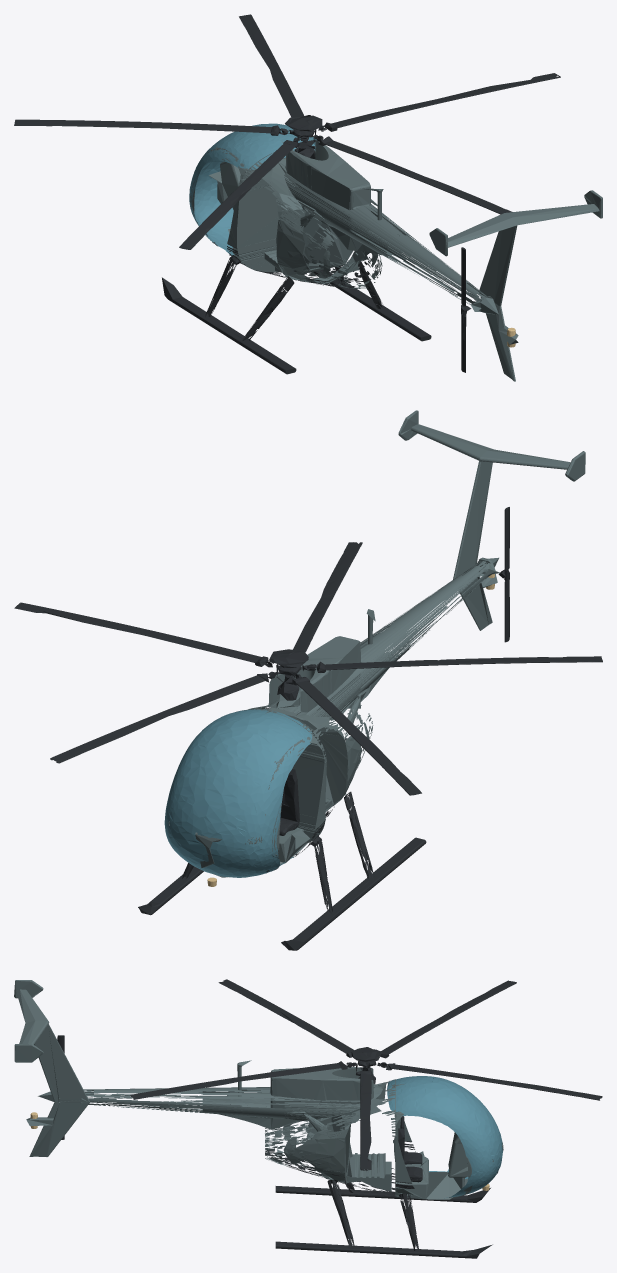
The picture shows the model from 3 angles, top to bottom: view 1: azimuth 30°, elevation 25°; view 2: azimuth 150°, elevation 25°; view 3: azimuth 270°, elevation 25°; orthographic projection. The views are drawn at different scales.
Parts seen in each view (by area): view 1: body body, rotor ink, body ink, body glass, tail ink; view 2: body body, body glass, rotor ink, body ink, tail ink; view 3: body body, rotor ink, body glass, body ink.
Boxes of the visible parts, bbox=[...] form: body body: bbox=[189, 140, 602, 381]; rotor ink: bbox=[14, 14, 560, 249]; body ink: bbox=[162, 219, 431, 374]; body glass: bbox=[189, 123, 316, 255]; tail ink: bbox=[461, 247, 471, 372]; body body: bbox=[166, 410, 585, 877]; body glass: bbox=[164, 709, 312, 877]; rotor ink: bbox=[14, 542, 602, 795]; body ink: bbox=[138, 738, 426, 950]; tail ink: bbox=[498, 507, 509, 642]; body body: bbox=[14, 980, 503, 1199]; rotor ink: bbox=[130, 979, 602, 1170]; body glass: bbox=[387, 1076, 502, 1198]; body ink: bbox=[265, 1116, 492, 1258].
Size of the model in its own units: 7.34 by 3.99 by 9.6.
